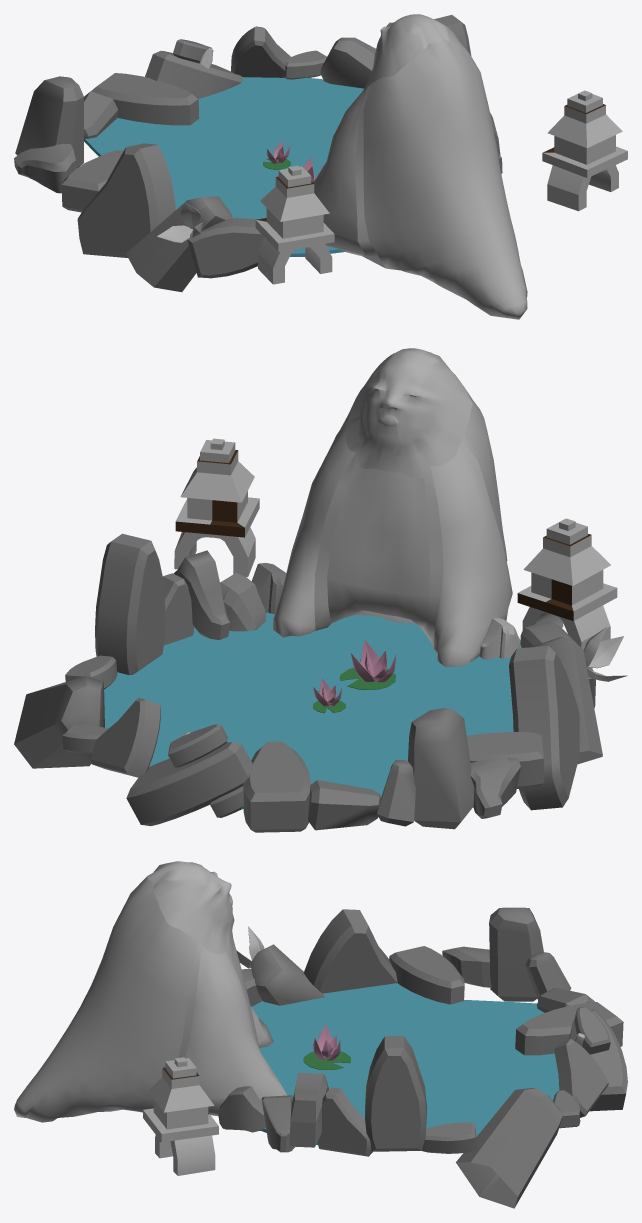
Rendered from weeping rock.fbx.
The picture shows the model from 3 angles, top to bottom: view 1: azimuth 30°, elevation 25°; view 2: azimuth 150°, elevation 25°; view 3: azimuth 270°, elevation 25°; orthographic projection. The views are drawn at different scales.
Visible parts, largest first — view 1: Weeping_Rock, lake, Rock_19, Top, Top1, Rock_20, Rock_16, Rock_13, Rock_21, Rock_12, Rock_09, Rock_07 (+8 smaller); view 2: Weeping_Rock, lake, Rock_05, Rock_19, Rock_16, Top1, Rock_12, Top, Rock_07, Rock_13, Rock_09, Rock_14 (+16 smaller); view 3: Weeping_Rock, lake, Rock_07, Rock_05, Rock_19, Top, Rock_16, Rock_18, Rock_20, Rock_13, Rock_04, Rock_09 (+12 smaller).
Part boxes in pixels (x1,y1,x2,y2): Weeping_Rock: (314,14,527,319); lake: (84,77,363,256); Rock_19: (77,143,175,257); Top: (542,90,627,178); Top1: (255,165,334,251); Rock_20: (126,196,232,292); Rock_16: (15,76,83,167); Rock_13: (91,73,199,125); Rock_21: (187,218,264,278); Rock_12: (145,51,243,98); Rock_09: (231,26,290,77); Rock_07: (320,37,375,88); Weeping_Rock: (272,348,512,667); lake: (104,612,521,809); Rock_05: (95,533,165,675); Rock_19: (509,645,580,810); Rock_16: (408,708,474,829); Top1: (517,518,617,620); Rock_12: (126,742,254,826); Top: (175,438,259,537); Rock_07: (14,676,104,768); Rock_13: (243,741,310,832); Rock_09: (91,697,160,777); Rock_14: (308,780,380,830); Weeping_Rock: (14,861,287,1122); lake: (252,983,559,1145); Rock_07: (456,1088,562,1208); Rock_05: (365,1036,426,1151); Rock_19: (304,909,397,993); Top: (143,1057,218,1142); Rock_16: (489,907,543,1001); Rock_18: (389,946,464,1004); Rock_20: (250,944,324,1005); Rock_13: (515,1002,623,1055); Rock_04: (318,1087,372,1156); Rock_09: (554,1038,608,1117).
Size of the model in its own units: 16.28 by 9.74 by 19.86.
